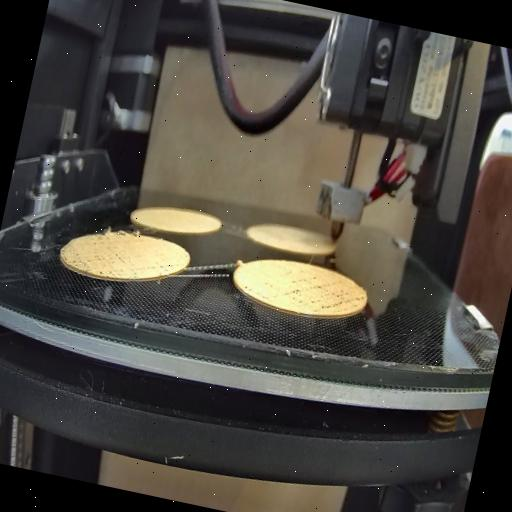under_extrusion: (284, 268, 366, 320), (71, 236, 128, 278), (134, 257, 178, 284), (240, 280, 274, 302)
